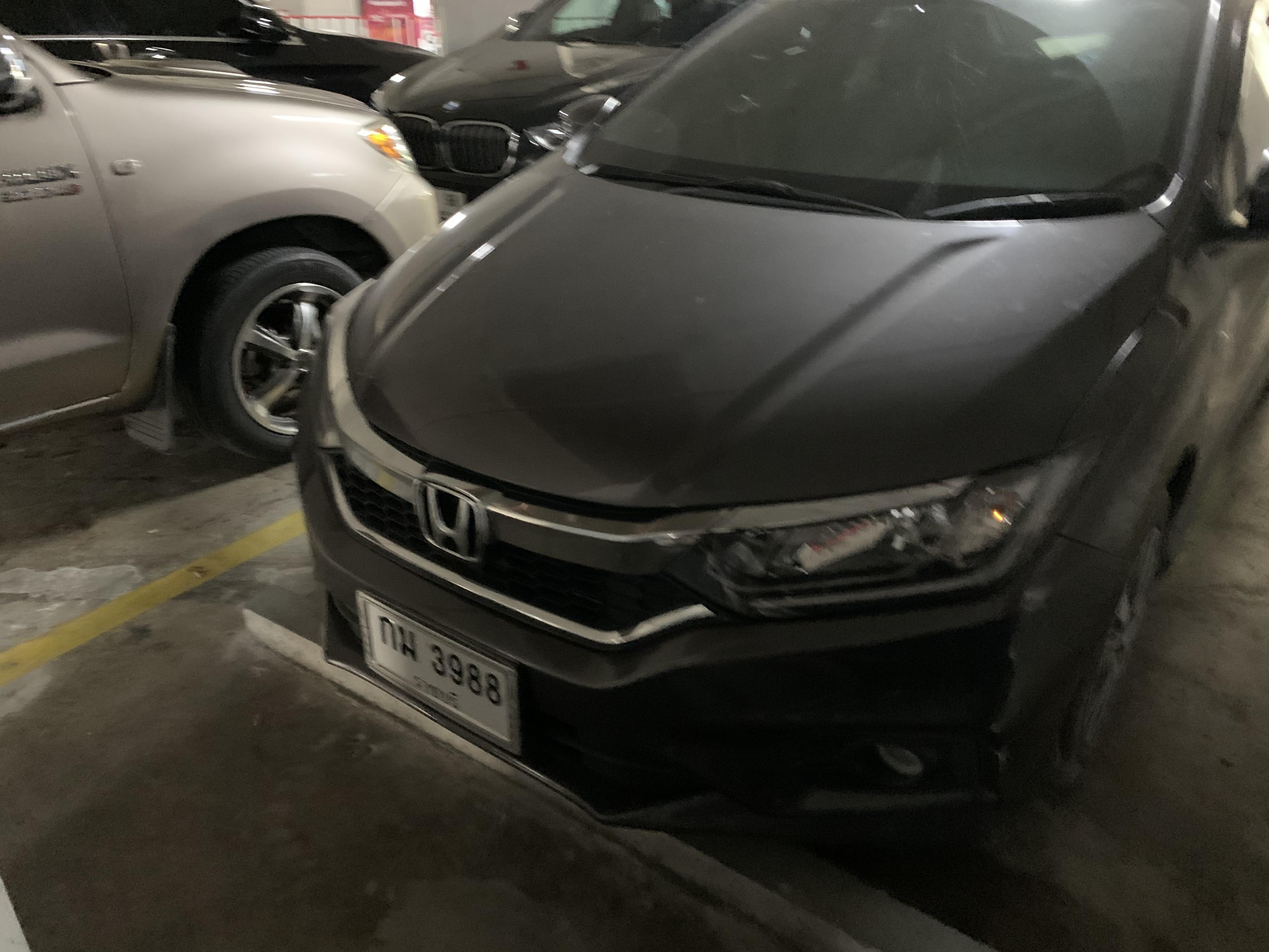license-plate: (355, 582, 526, 761)
